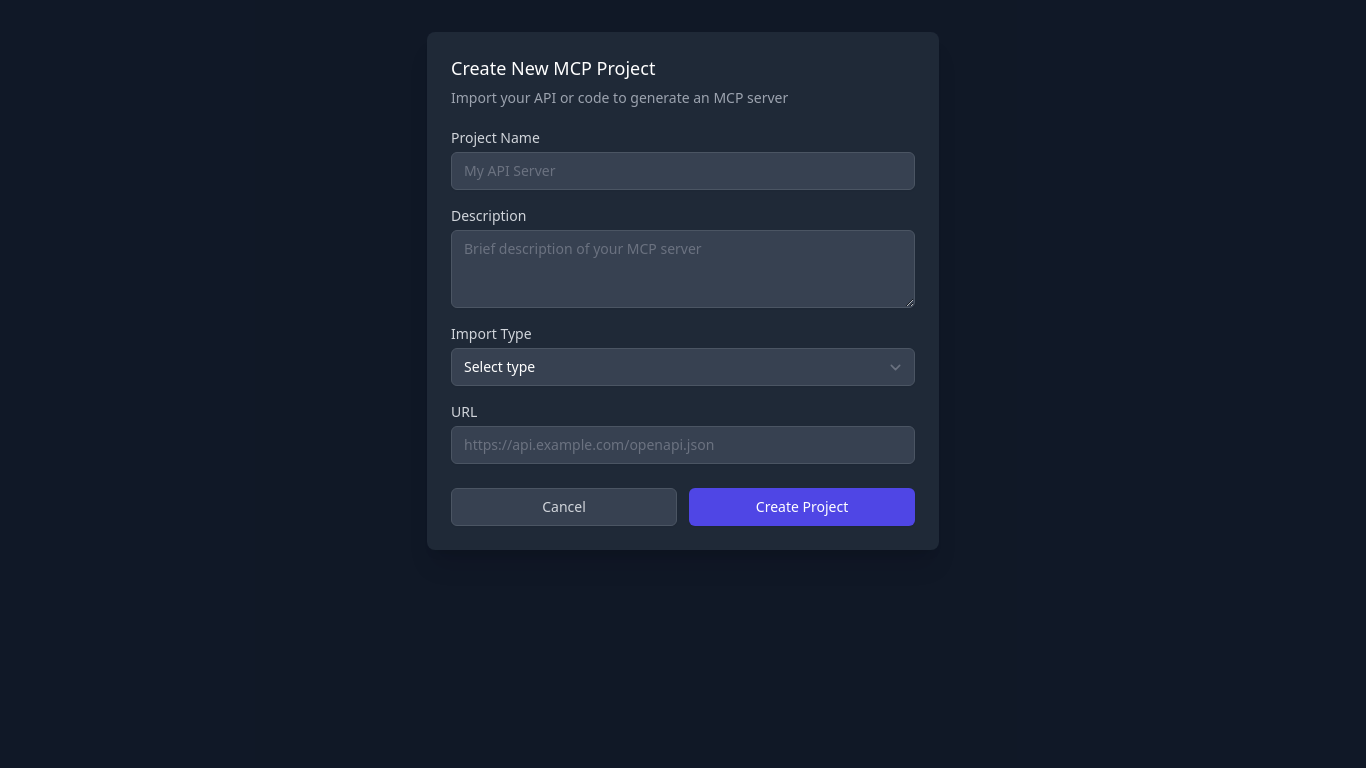
Test case: CreateProjectModal › Form Fields › shows file input when file method is selected
Select "OpenAPI / Swagger" in the dropdown with id "type". click: (683, 367)
box: [451,348,915,386]
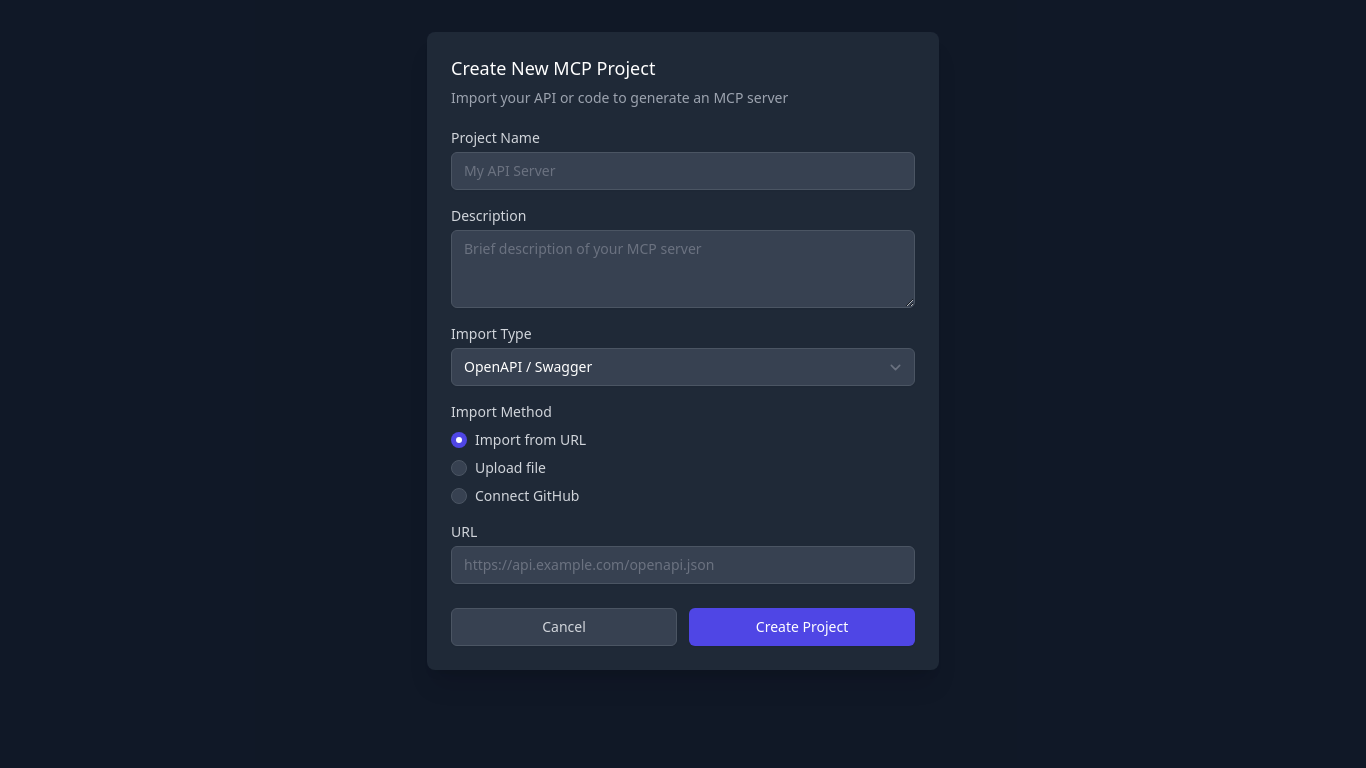
Click the radio button labelled "Upload file". click: (459, 468)
box: [451,460,467,476]
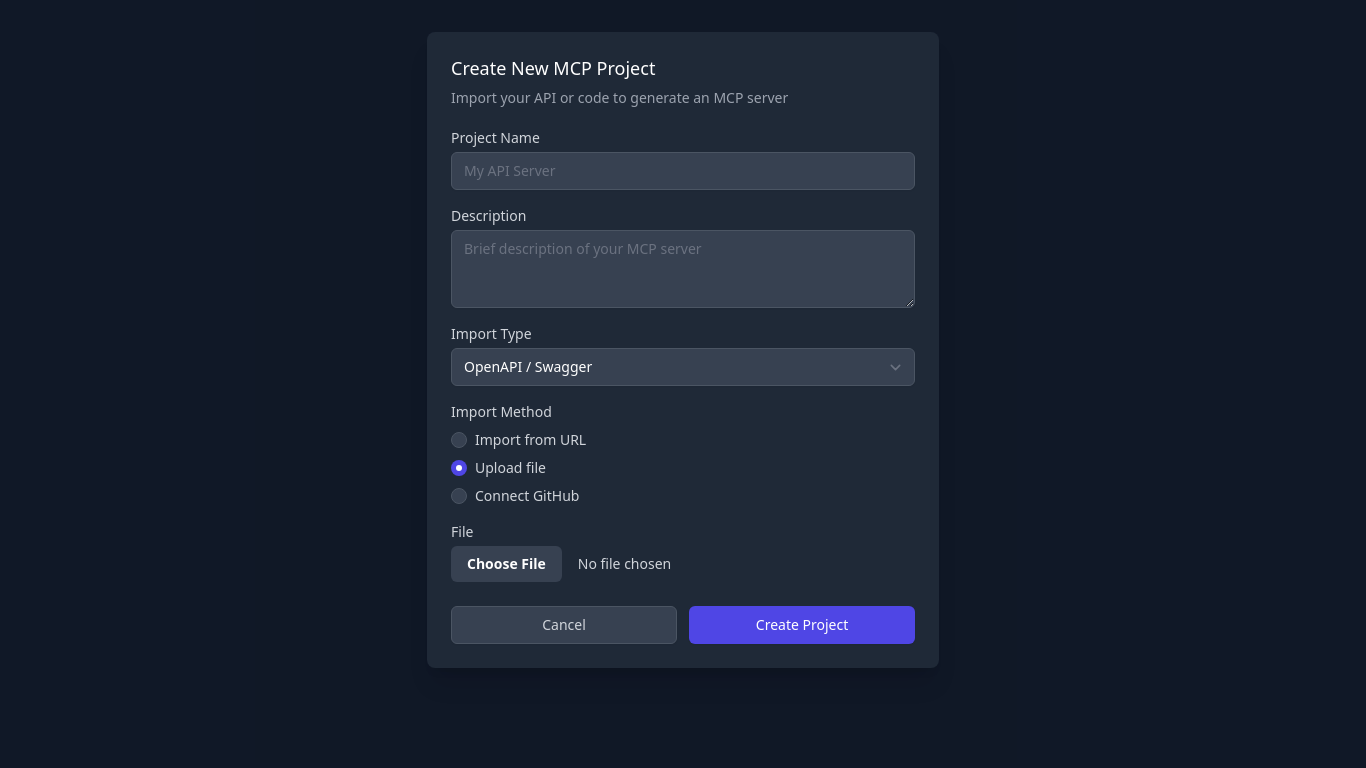
Now the file field labelled "File" is shown, box [451,546,915,582]
